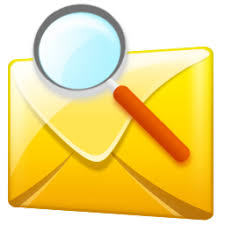searchIcon: (26, 1, 192, 163)
